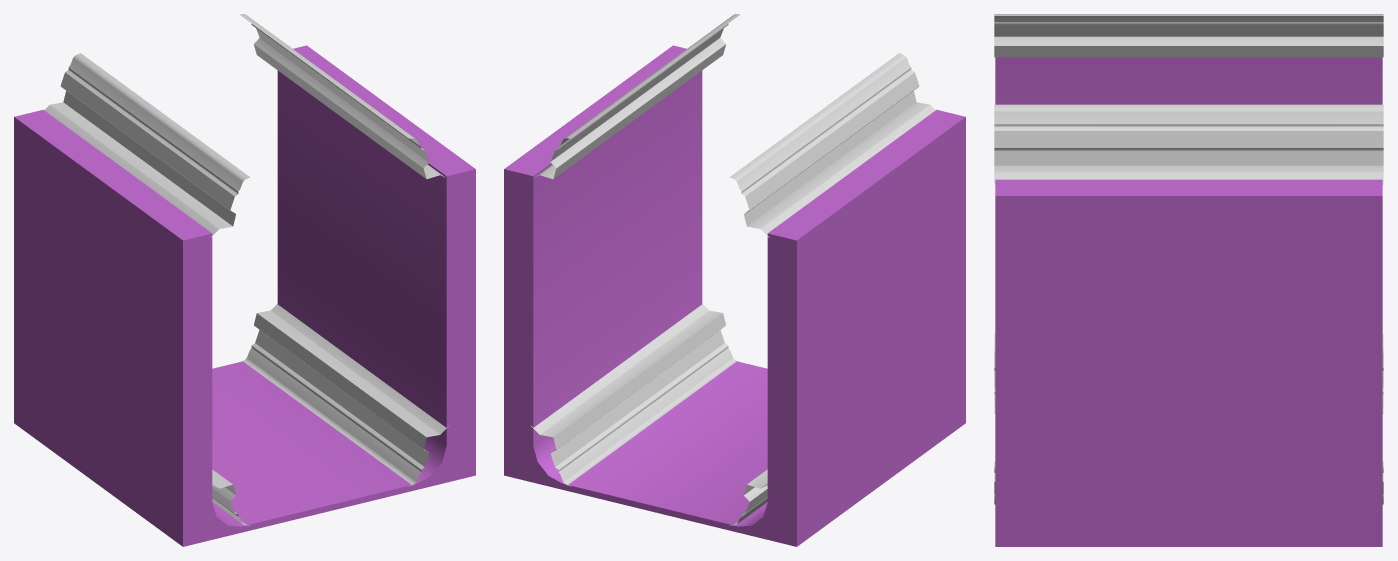
File: Tileset_Piece_17.fbx
3 views of the same model, side by side, from view 1: azimuth 30°, elevation 25°; view 2: azimuth 150°, elevation 25°; view 3: azimuth 270°, elevation 25° (orthographic). The views are drawn at different scales.
Visible parts, largest first — view 1: Tileset_Piece_17; view 2: Tileset_Piece_17; view 3: Tileset_Piece_17.
Part boxes in pixels (box(x1,y1,x2,y2)): Tileset_Piece_17: box(14, 14, 475, 546); Tileset_Piece_17: box(504, 14, 965, 546); Tileset_Piece_17: box(994, 14, 1383, 546).
Bounding box in the file's own units: 100 × 115 × 100.
